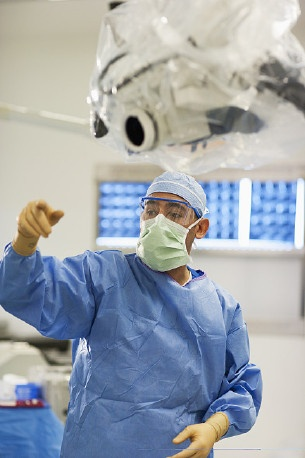Mask: (135, 198, 209, 272)
